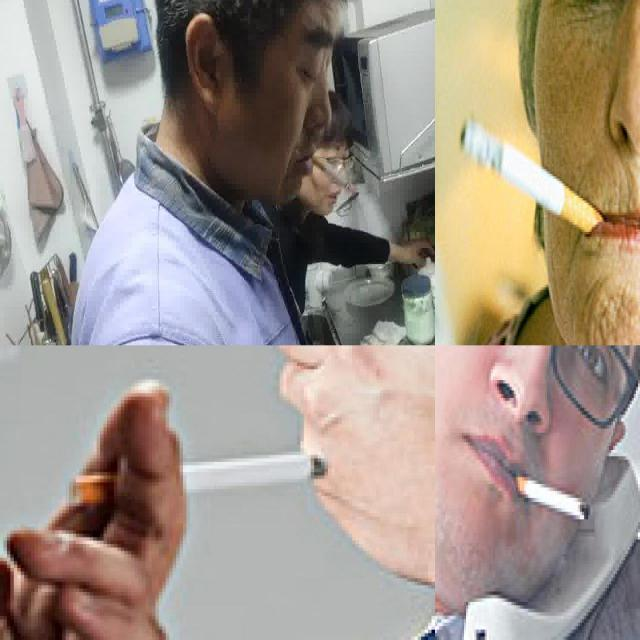cigarette: (458, 116, 606, 237), (72, 452, 328, 507), (507, 472, 591, 522), (310, 152, 356, 196)
